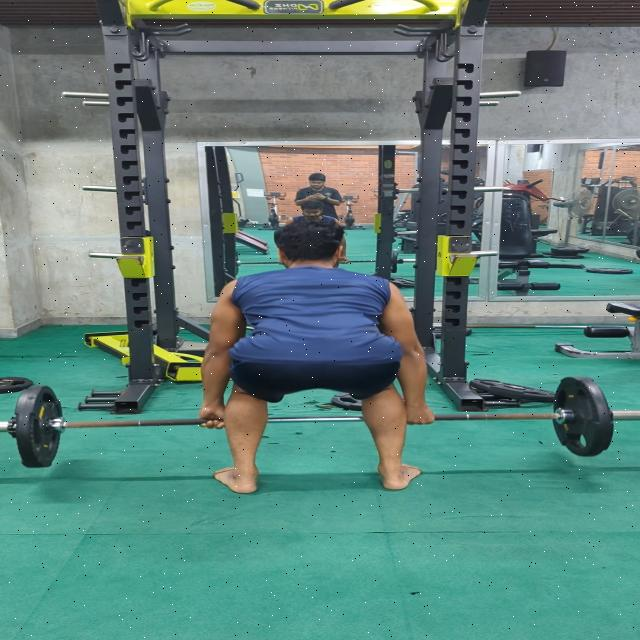Normal_Deadlifts: (196, 212, 440, 497)
